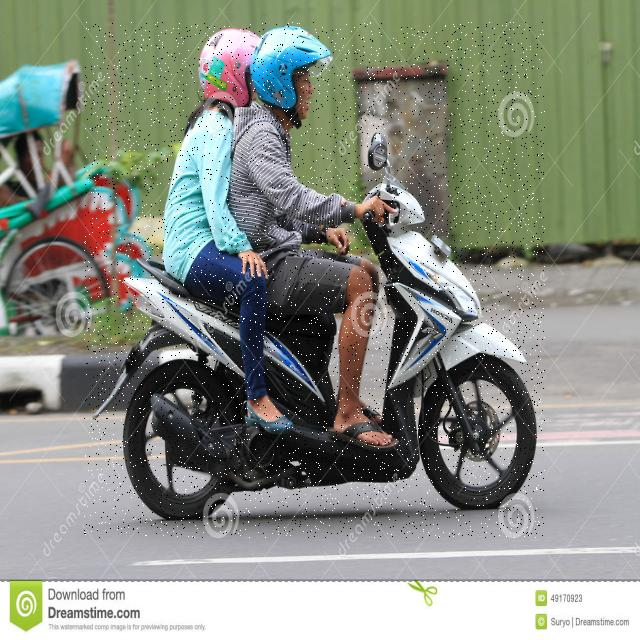With Helmet: (84, 22, 545, 538)
